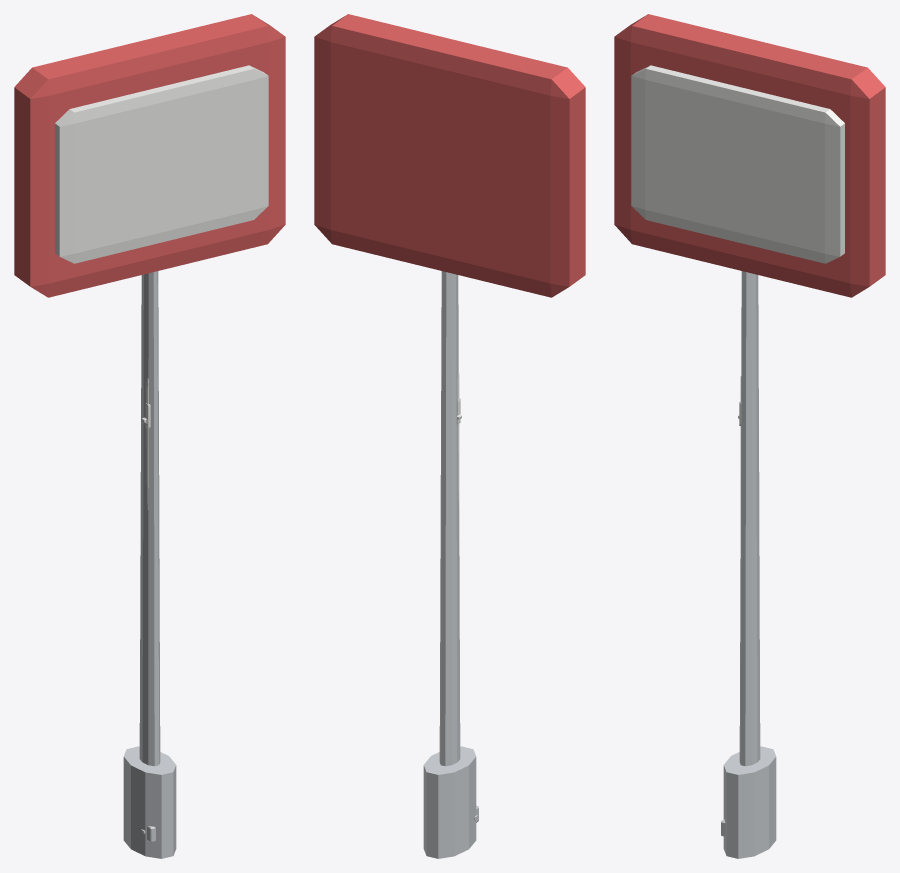
The model's file is b02_yield_sign.glb.
3 renders of one model, left to right at view 1: azimuth 30°, elevation 25°; view 2: azimuth 150°, elevation 25°; view 3: azimuth 330°, elevation 25°, orthographic.
Visible parts, largest first — view 1: b02_yield_sign; view 2: b02_yield_sign; view 3: b02_yield_sign.
Boxes of the visible parts, x1,y1,x2,y2 form: b02_yield_sign: [14, 14, 285, 858]; b02_yield_sign: [314, 14, 585, 858]; b02_yield_sign: [614, 14, 885, 858].
Bounding box in the file's own units: 0.817 × 2.44 × 0.195.
